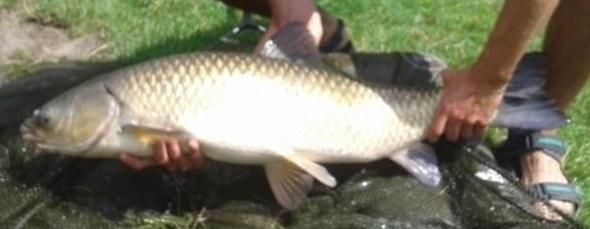Grass Carp: (15, 22, 570, 217)
